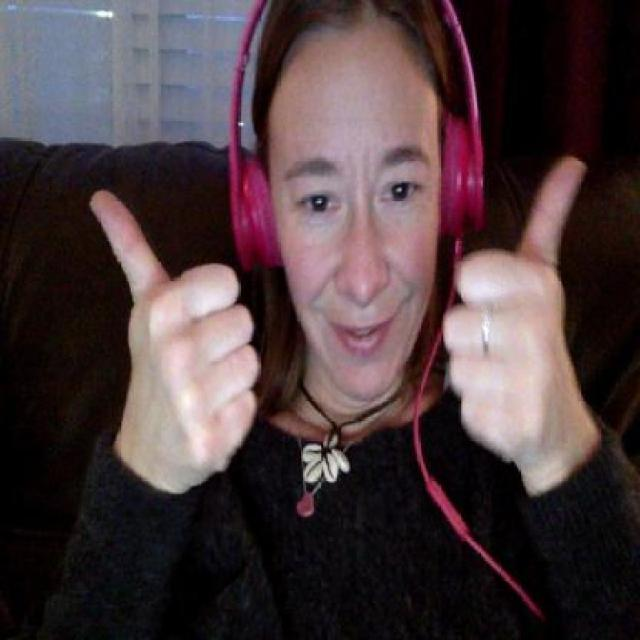earphone: (228, 0, 514, 265)
